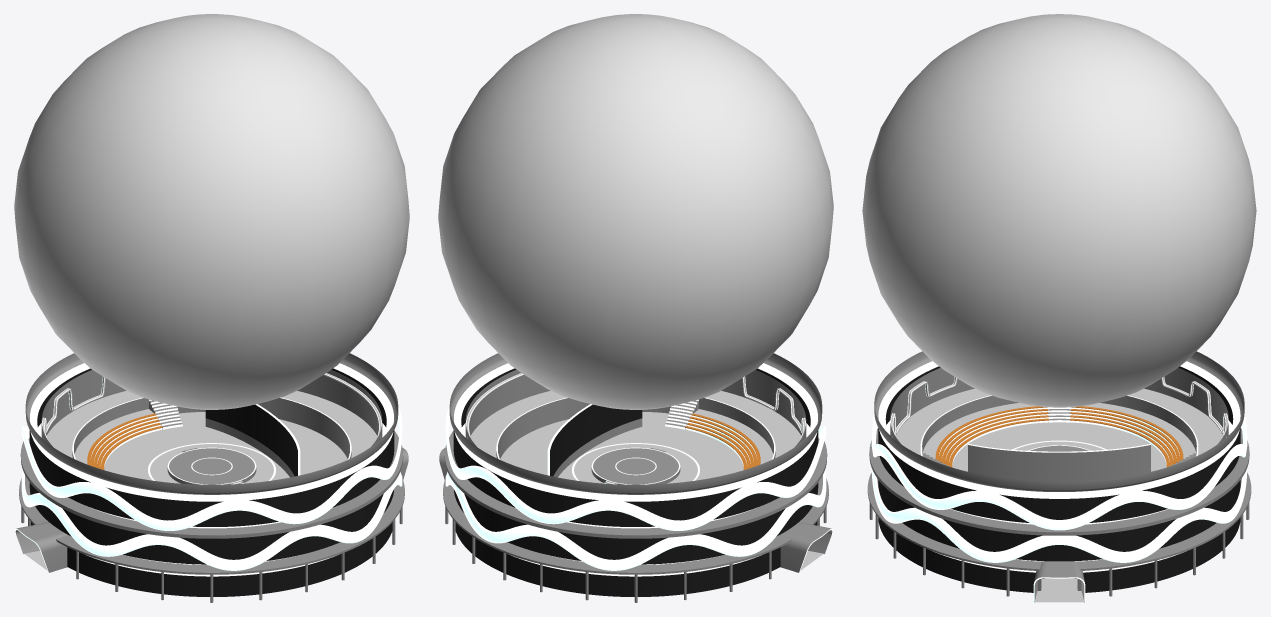
Rendered from Showroom1.fbx.
3 views of the same model, side by side, from view 1: azimuth 30°, elevation 25°; view 2: azimuth 150°, elevation 25°; view 3: azimuth 270°, elevation 25° (orthographic).
Visible parts, largest first — view 1: Sphere.001, Cylinder, Cylinder.010, BezierCircle.001, BezierCircle, Cube.007, Cylinder.001, Cylinder.006, Cylinder.005, Cylinder.003; view 2: Sphere.001, Cylinder, Cylinder.010, BezierCircle.001, BezierCircle, Cube.007, Cylinder.001, Cylinder.006, Cylinder.005, Cylinder.003; view 3: Sphere.001, Cylinder, Cylinder.010, Cylinder.001, Cube.007, BezierCircle.001, BezierCircle, Cylinder.005, Cylinder.003, Cylinder.006.
Part boxes in pixels (x1,y1,x2,y2): Sphere.001: (14,14,409,409); Cylinder: (19,353,404,596); Cylinder.010: (46,390,377,484); BezierCircle.001: (21,407,402,530); BezierCircle: (21,469,402,570); Cube.007: (205,404,300,477); Cylinder.001: (74,400,182,469); Cylinder.006: (15,447,408,572); Cylinder.005: (21,506,402,602); Cylinder.003: (42,373,381,439); Sphere.001: (438,14,833,409); Cylinder: (443,353,828,596); Cylinder.010: (470,390,801,484); BezierCircle.001: (445,407,826,530); BezierCircle: (445,469,826,570); Cube.007: (547,404,642,477); Cylinder.001: (665,400,773,469); Cylinder.006: (439,447,832,572); Cylinder.005: (445,506,826,602); Cylinder.003: (466,373,805,439); Sphere.001: (862,14,1256,407); Cylinder: (867,351,1251,602); Cylinder.010: (895,388,1223,471); Cylinder.001: (922,403,1196,467); Cube.007: (968,444,1150,481); BezierCircle.001: (871,413,1247,530); BezierCircle: (871,468,1247,562); Cylinder.005: (869,503,1249,596); Cylinder.003: (890,377,1228,437); Cylinder.006: (1033,561,1085,602).
Size of the model in its own units: 31587 by 39643 by 29070.
